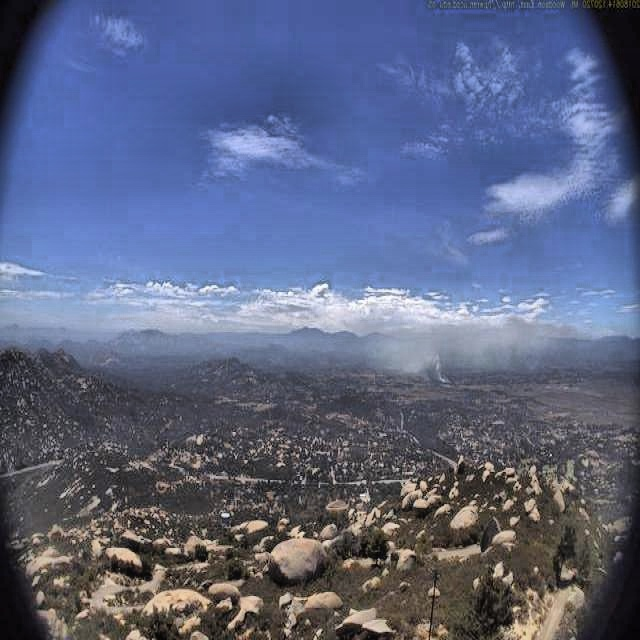smoke: (363, 312, 560, 385)
